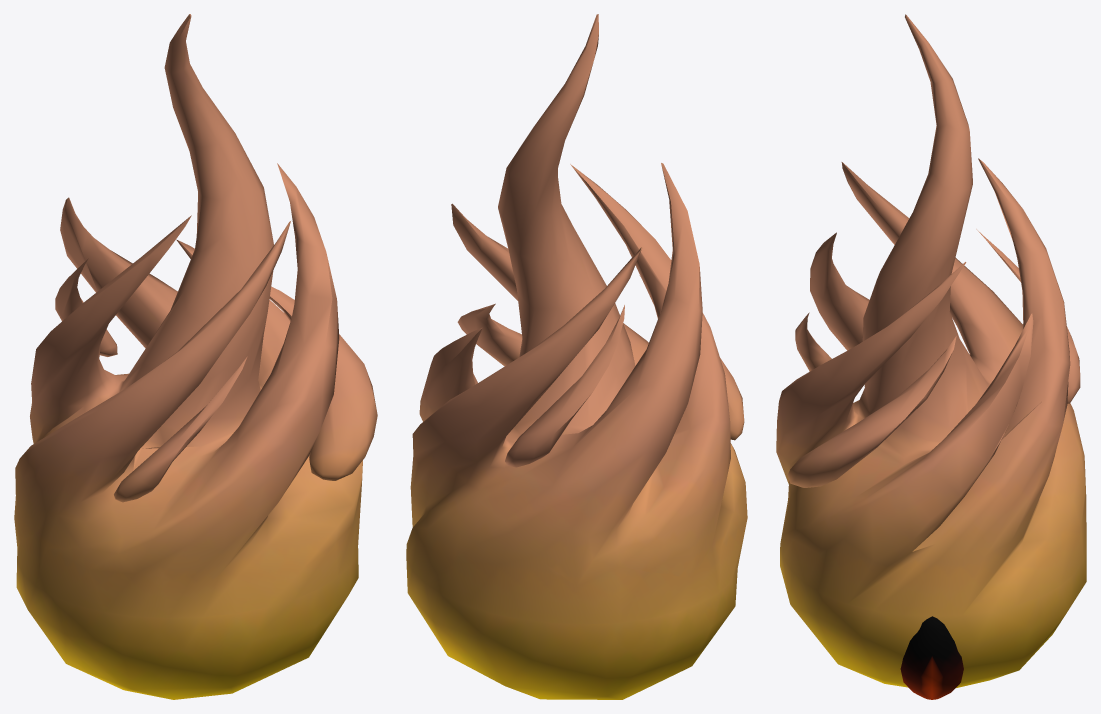
File: mdlWilloWispVoid.fbx
The picture shows the model from 3 angles, left to right: view 1: azimuth 30°, elevation 25°; view 2: azimuth 150°, elevation 25°; view 3: azimuth 270°, elevation 25°; orthographic projection. The views are drawn at different scales.
Parts seen in each view (by area): view 1: mdlWilloWispVoid; view 2: mdlWilloWispVoid; view 3: mdlWilloWispVoid, mdlWilloWispVoidEye.
Part boxes in pixels (x1,y1,x2,y2): mdlWilloWispVoid: (14, 14, 377, 699); mdlWilloWispVoid: (406, 14, 747, 699); mdlWilloWispVoid: (776, 14, 1086, 687); mdlWilloWispVoidEye: (900, 616, 963, 699).
Bounding box in the file's own units: 1.76 × 3.74 × 1.6.
2 materials, 1 textured.
